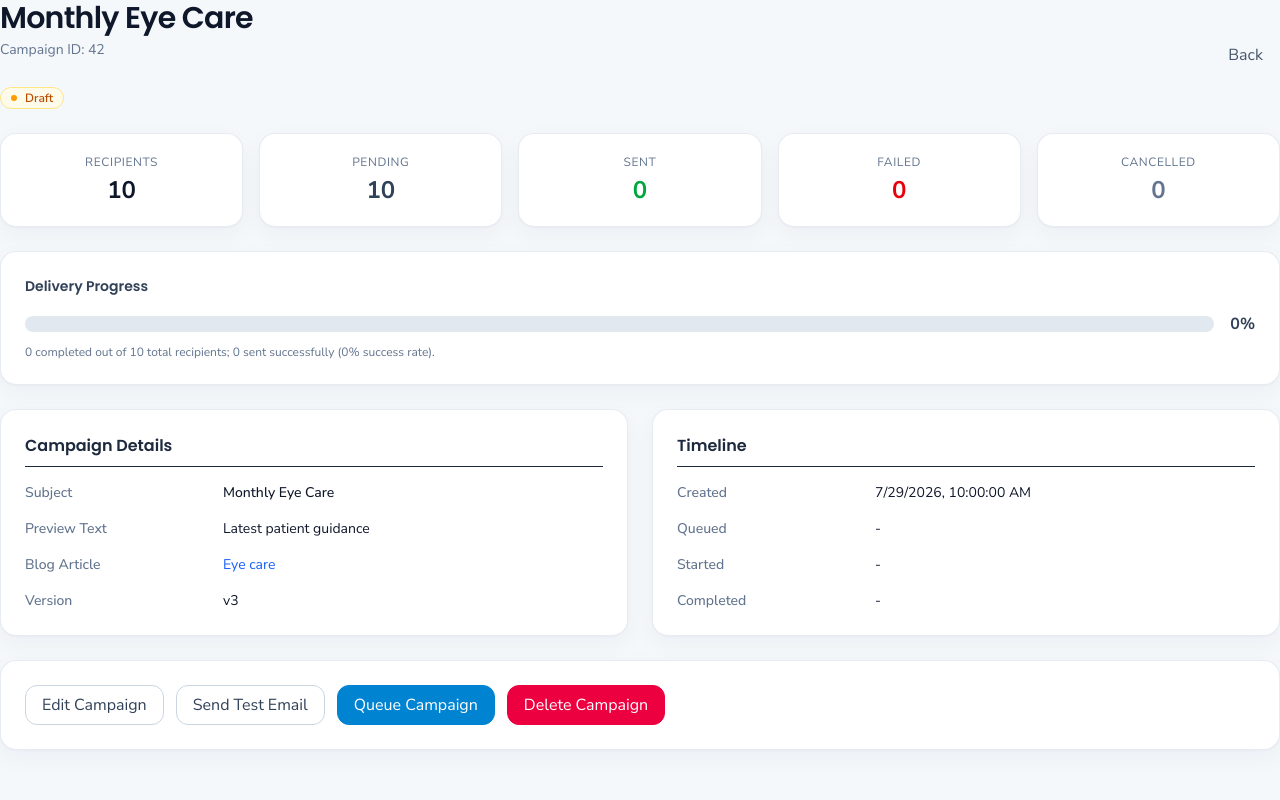
Test: CampaignDetailPage delivery polling and health › does not re-queue during polling after the explicit queue action
What coordinates should you click on to do the following:
click the button "Queue Campaign"
I would click on:
 (416, 705)
Its box is [337,685,495,725].
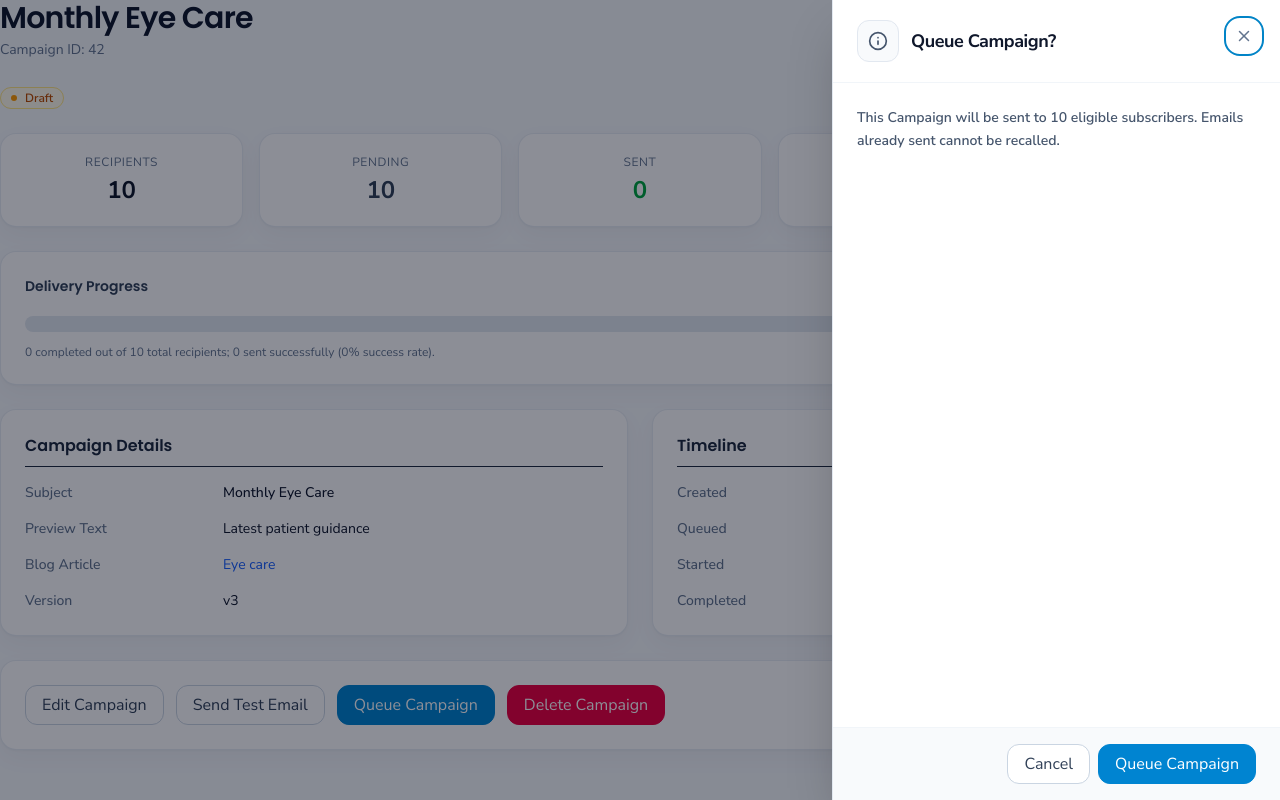
What coordinates should you click on to do the following:
click the button "Queue Campaign"
I would click on:
 (1177, 764)
Its box is [1098,744,1256,784].
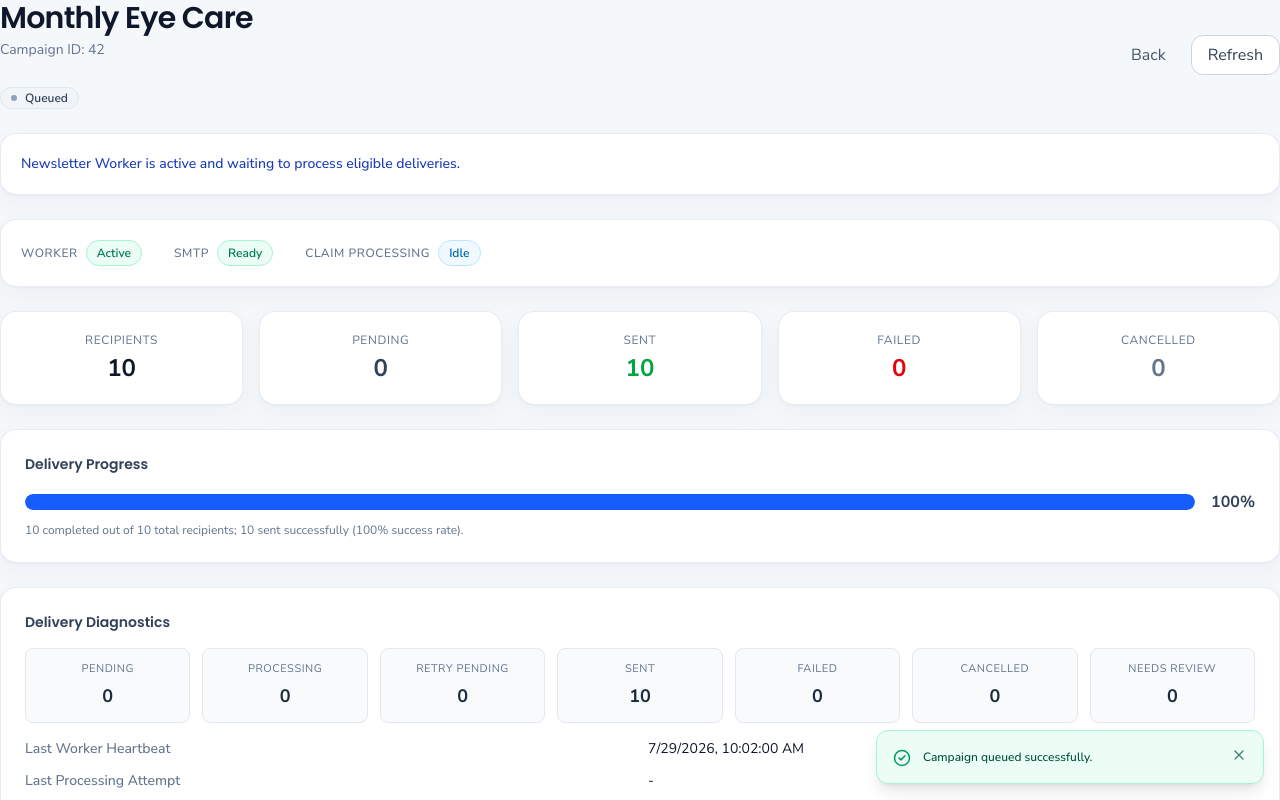
Now the button "Queue Campaign" is gone
